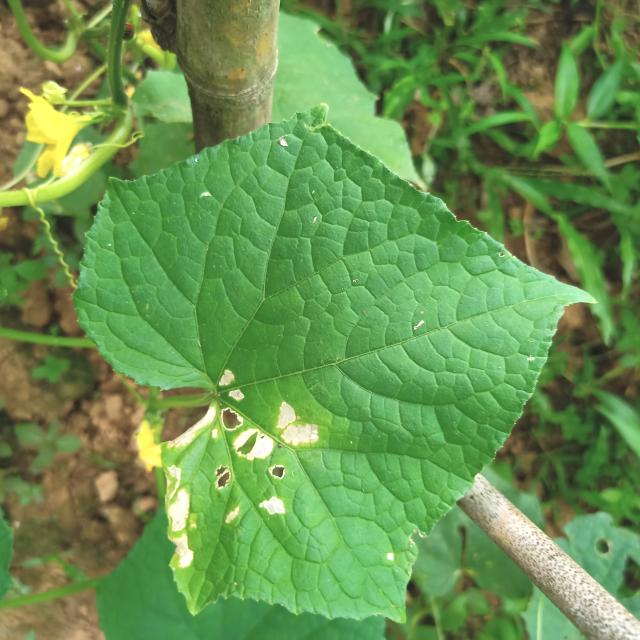disease_cucumber: (166, 372, 320, 568)
